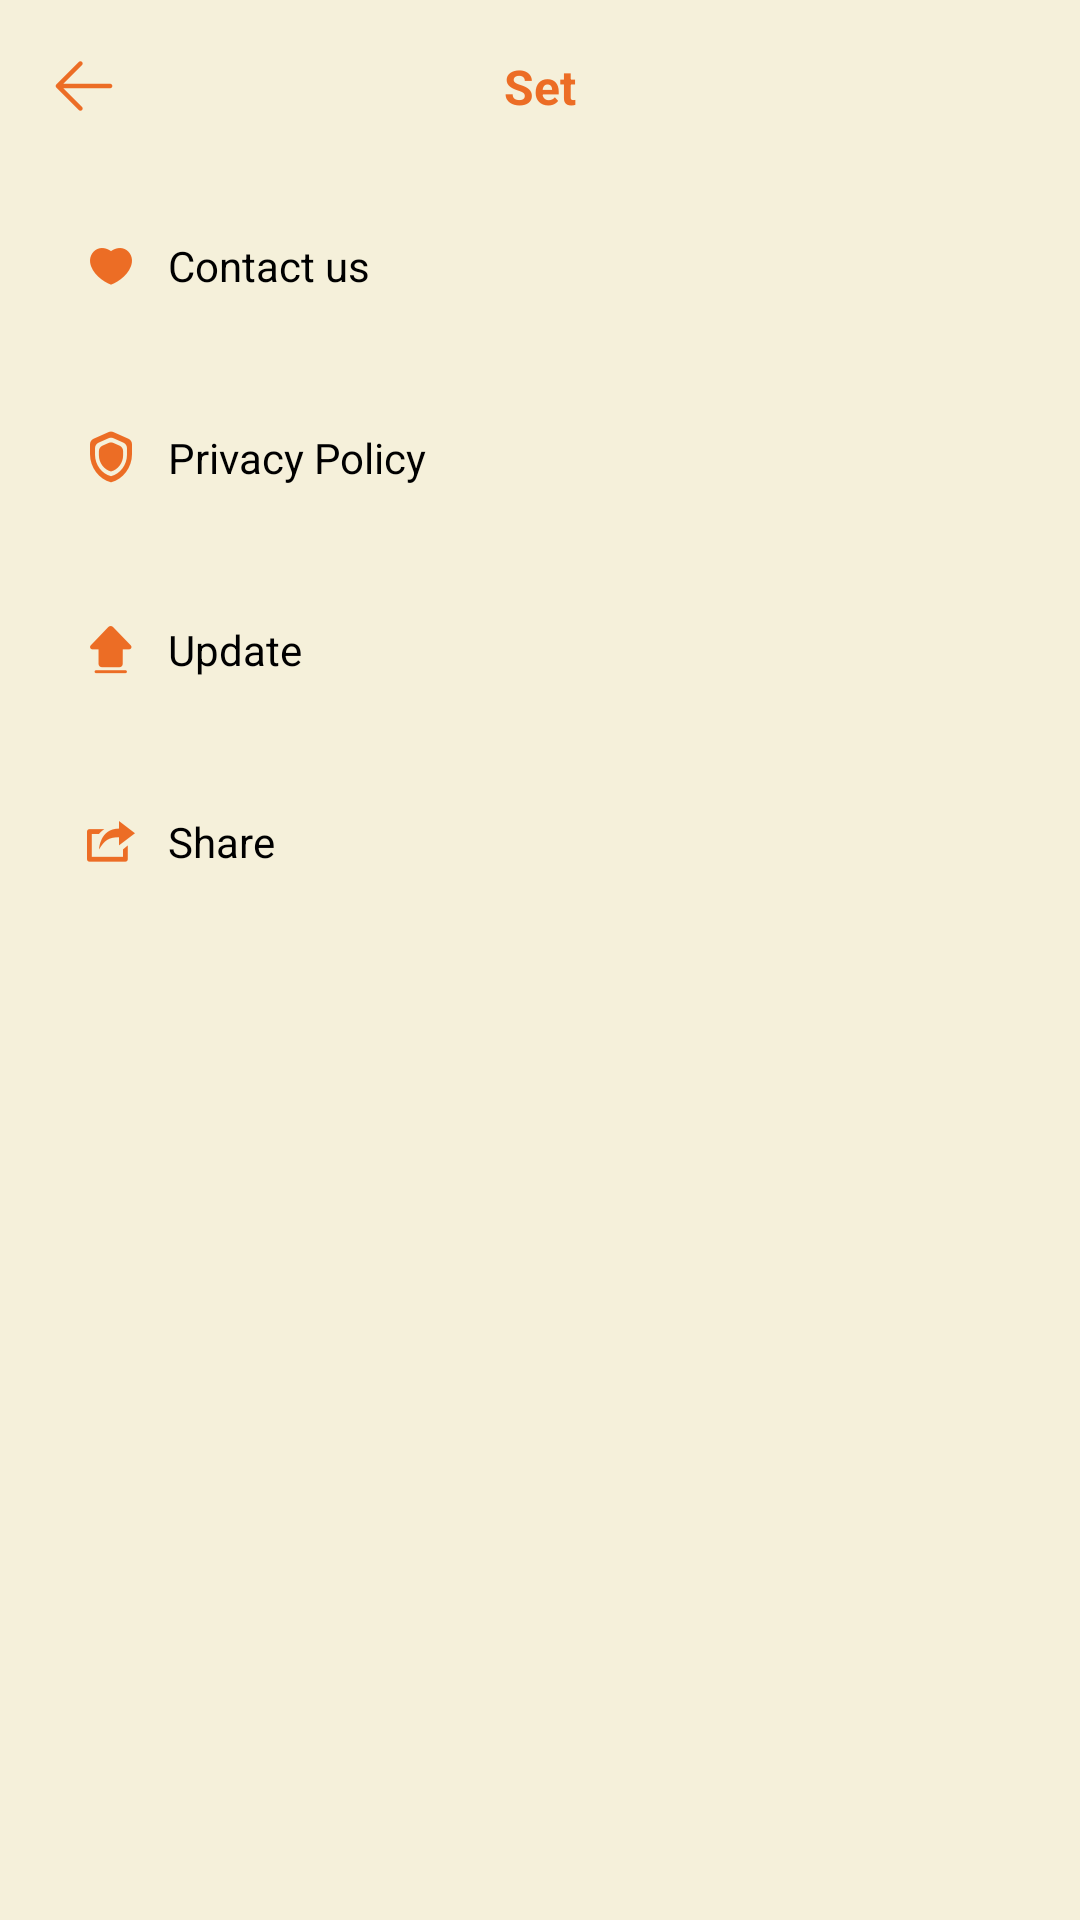

Screen size 1080*1920. Icon name, then its center in pixels as (x=x, y=y):
back: (x=84, y=86)
